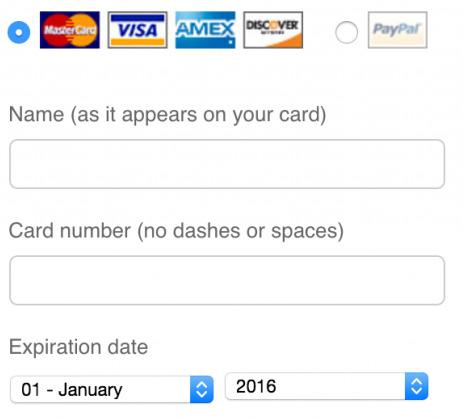field: (7, 252, 447, 307), (7, 138, 450, 192), (7, 374, 217, 407), (223, 370, 428, 402)
field_with_label: (3, 218, 450, 311), (3, 103, 453, 195), (3, 336, 220, 410)
radio: (331, 18, 361, 45), (7, 21, 30, 46)
